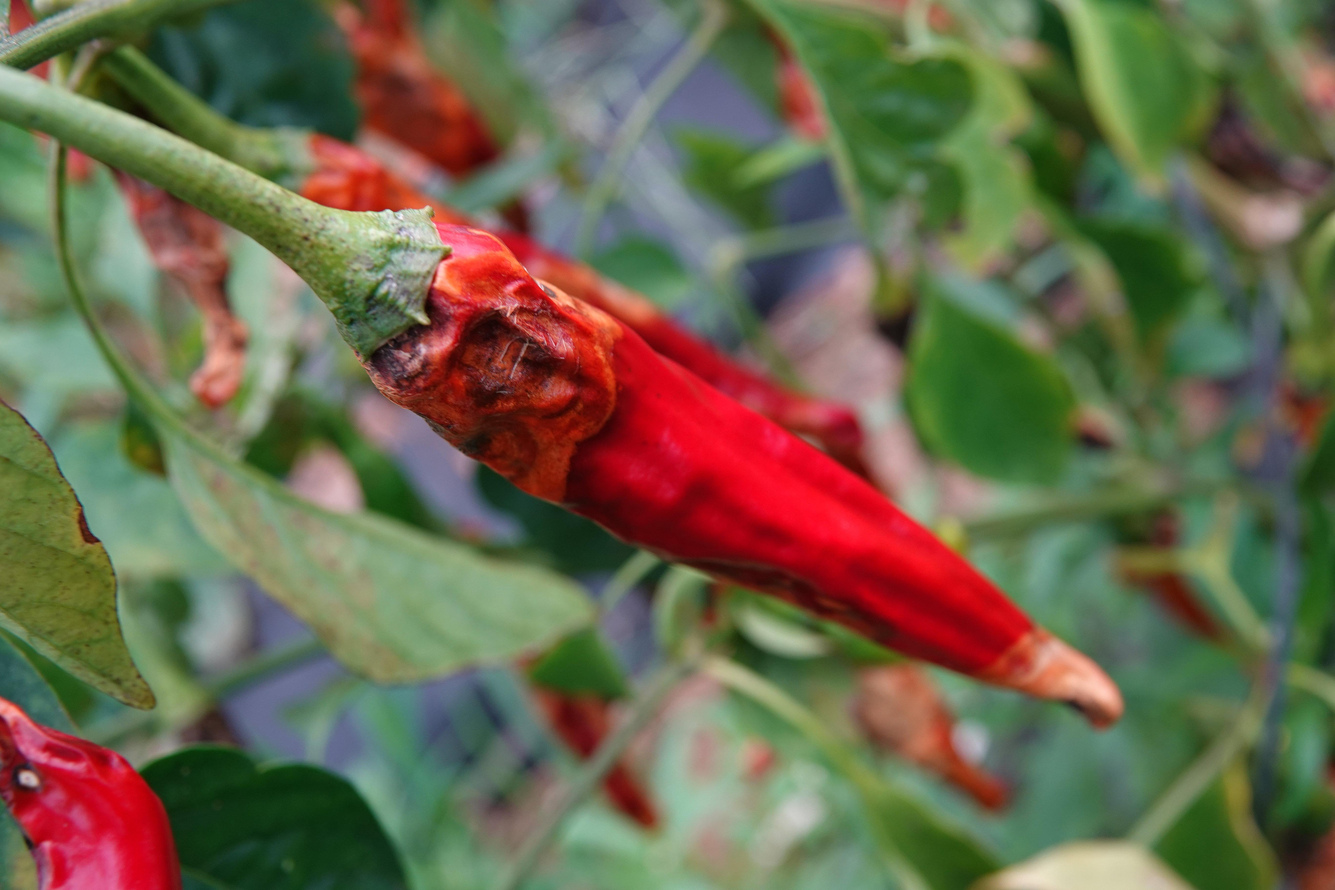Busuk Buah Antraknosa: (339, 196, 1134, 739)
